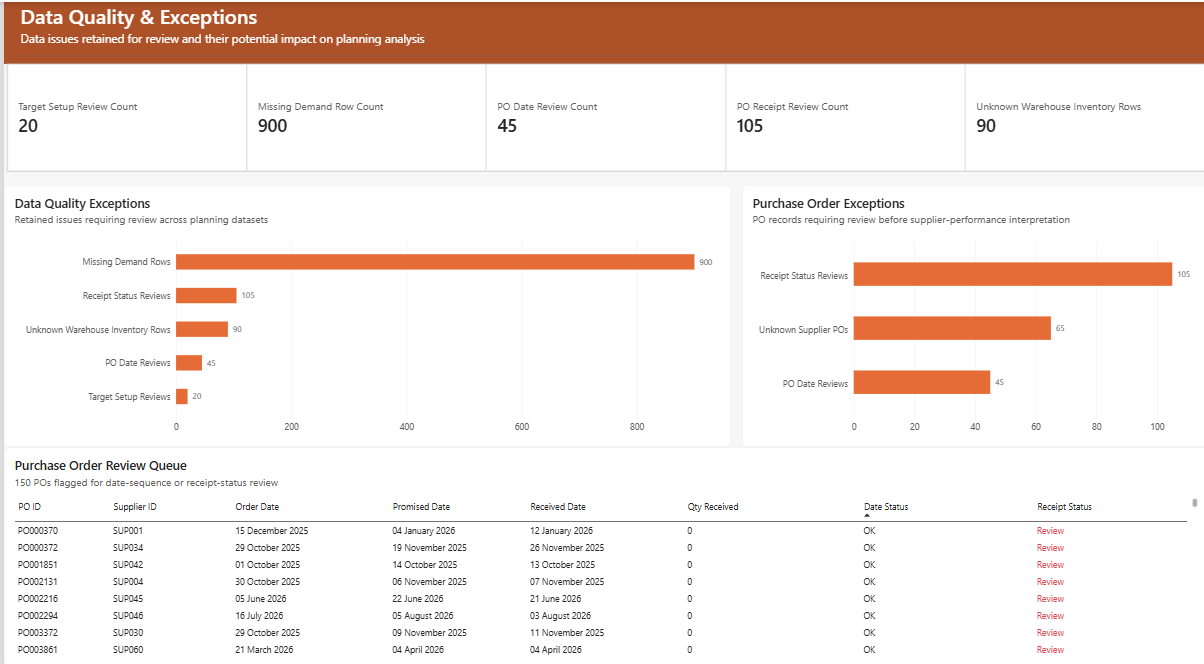

Layout of this report page (visuals, bound fields, positions):
{"tool":"powerbi","page":{"name":"Data Quality & Exceptions","canvas":[1920,1080],"ordinal":3},"visuals":[{"type":"shape","box":[0,0,1911.3,98.9],"z":0},{"type":"shape","title":"Data Quality & Exceptions","box":[26.4,0,1893.6,98.4],"z":1000},{"type":"cardVisual","fields":{"Data":["_Measures.Target Setup Review Count","_Measures.Missing Demand Row Count","_Measures.PO Date Review Count","_Measures.PO Receipt Review Count","_Measures.Unknown Warehouse Inventory Rows"]},"box":[4.8,98.4,1910.4,172.8],"z":2000},{"type":"clusteredBarChart","title":"Data Quality Exceptions","fields":{"Category":["DataQualityIssues.Issue"],"Y":["_Measures.Data Quality Issue Count"]},"box":[0,292,1156.5,416.7],"z":3000},{"type":"clusteredBarChart","title":"Purchase Order Exceptions","fields":{"Category":["POQualityIssues.Issue"],"Y":["_Measures.PO Quality Issue Count"]},"box":[1173.6,292,742.7,416.7],"z":4000},{"type":"tableEx","title":"Purchase Order Review Queue","fields":{"Values":["purchase_orders.po_id","purchase_orders.supplier_id","purchase_orders.order_date","purchase_orders.promised_date","purchase_orders.received_date","Sum(purchase_orders.quantity_received)","purchase_orders.po_date_status","purchase_orders.po_receipt_status"]},"box":[0,708.7,1916.2,360],"z":5000}]}

Visuals, with their boxes in screenshot pixels (x1, y1, x2, y2), scaled from the page's 1920x1080 canvas onto the 1204x664 screenshot:
shape: detection(0, 0, 1199, 61)
"Data Quality & Exceptions" shape: detection(17, 0, 1203, 60)
cardVisual - _Measures.Target Setup Review Count x _Measures.Missing Demand Row Count: detection(3, 60, 1201, 167)
"Data Quality Exceptions" clusteredBarChart: detection(0, 180, 725, 436)
"Purchase Order Exceptions" clusteredBarChart: detection(736, 180, 1202, 436)
"Purchase Order Review Queue" tableEx: detection(0, 436, 1202, 657)
